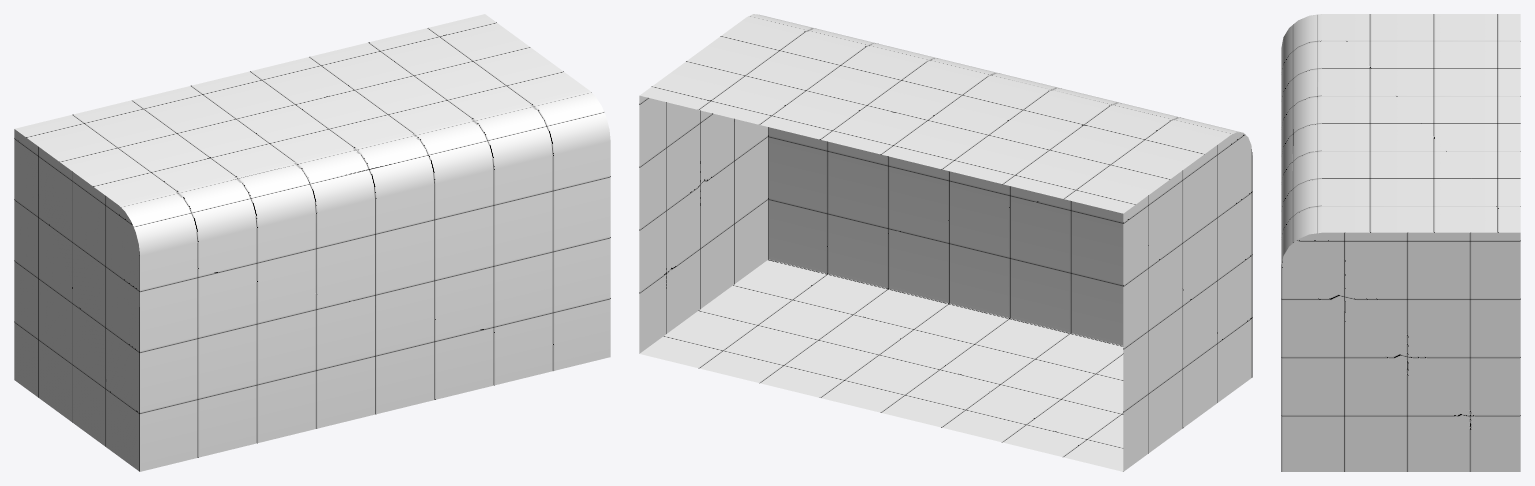
File: TrainnerStage.fbx
3 renders of one model, left to right at view 1: azimuth 30°, elevation 25°; view 2: azimuth 150°, elevation 25°; view 3: azimuth 270°, elevation 25°, orthographic. The views are drawn at different scales.
Visible parts, largest first — view 1: Cube; view 2: Cube; view 3: Cube.
Part boxes in pixels (x1,y1,x2,y2): Cube: [14, 14, 610, 471]; Cube: [639, 14, 1252, 471]; Cube: [1281, 14, 1520, 471].
Bounding box in the file's own units: 1052 × 536 × 486.
